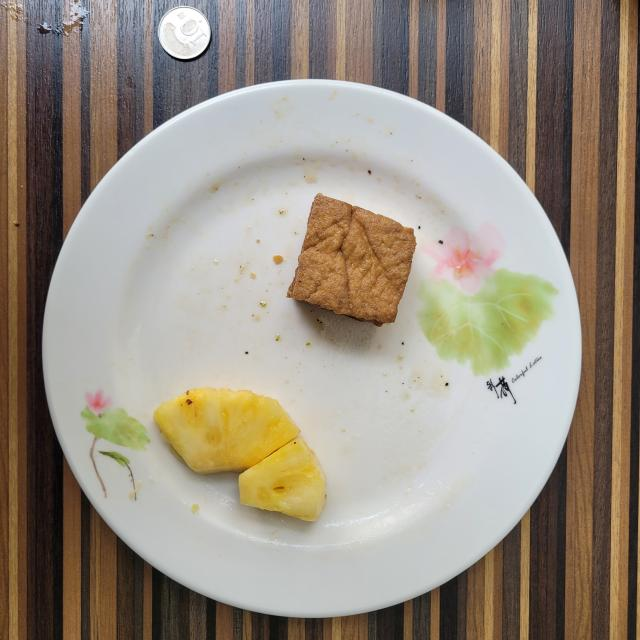coin: (158, 6, 210, 60)
egg tofu: (288, 194, 416, 326)
pineapple: (154, 388, 326, 521)
